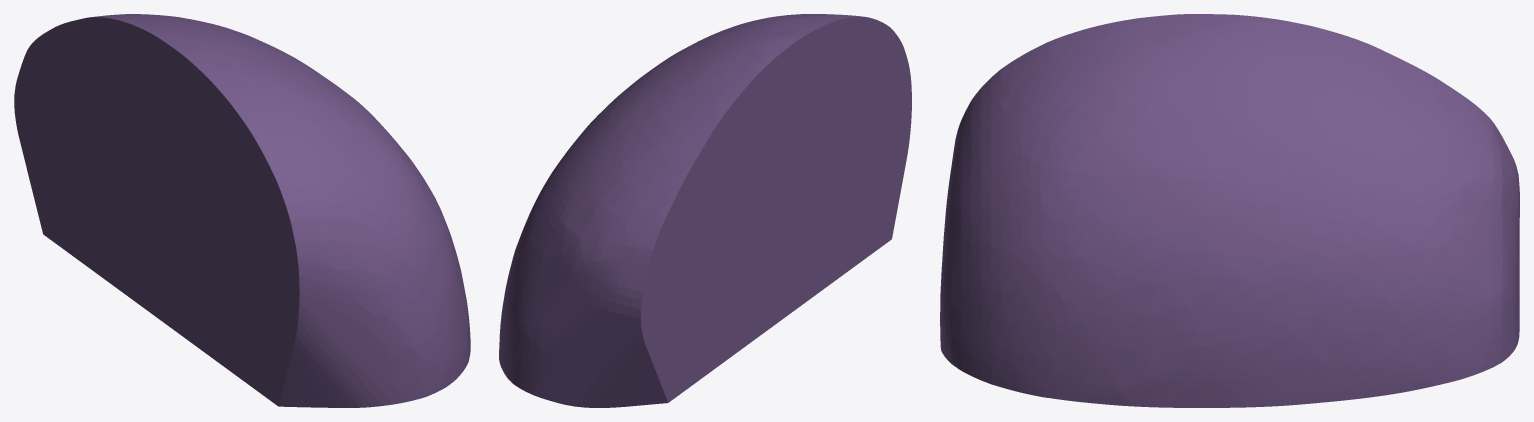
Rendered from convex_piece_1.obj.
3 views of the same model, side by side, from view 1: azimuth 30°, elevation 25°; view 2: azimuth 150°, elevation 25°; view 3: azimuth 270°, elevation 25° (orthographic). The views are drawn at different scales.
Size of the model in its own units: 0.034 by 0.0387 by 0.0727.
